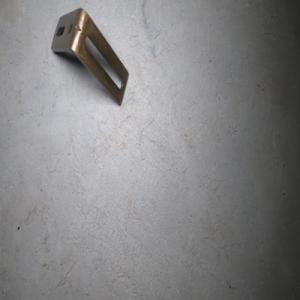MetalPart: (50, 5, 129, 106)
